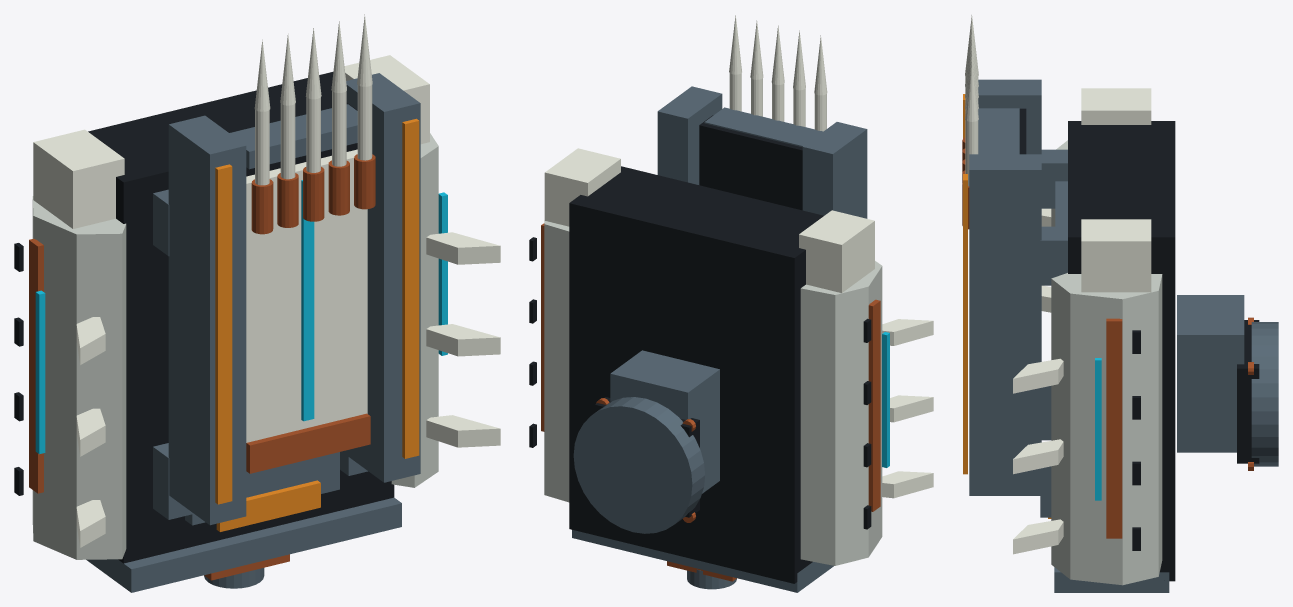
Rendered from M01-006_ceramic_needle_launcher.obj.
3 views of the same model, side by side, from view 1: azimuth 30°, elevation 25°; view 2: azimuth 150°, elevation 25°; view 3: azimuth 270°, elevation 25° (orthographic). The views are drawn at different scales.
Parts seen in each view (by area): view 1: Ceramic_Side_Shell_L, Breech_Core, Static_Guide_L, Carriage_Ceramic_Top, Static_Guide_R, Rear_Bulkhead, Nose_Side_Plate_L, Guide_Top_Accent_L, Guide_Top_Accent_R, Ceramic_Side_Shell_R, Carriage_Rear_Stop, Carriage_Glow_Spine (+32 smaller); view 2: Breech_Core, Ceramic_Side_Shell_L, Mount_Disc, Ceramic_Side_Shell_R, Extending_Carriage, Riser, Static_Guide_L, Nose_Side_Plate_L, Static_Guide_R, Nose_Side_Plate_R, Rear_Bulkhead, Copper_Side_Inlay_L (+7 smaller); view 3: Ceramic_Side_Shell_R, Static_Guide_R, Breech_Core, Riser, Nose_Side_Plate_R, Mount_Disc, Copper_Side_Inlay_R, Static_Guide_L, Nose_Side_Plate_L, Carriage_Front_Bridge, Mount_Key, Rear_Bulkhead (+12 smaller).
Part boxes in pixels (x1,y1,x2,y2): Ceramic_Side_Shell_L: (32, 196, 126, 559); Breech_Core: (88, 72, 394, 563); Static_Guide_L: (168, 115, 246, 525); Carriage_Ceramic_Top: (246, 149, 367, 442); Static_Guide_R: (343, 73, 420, 482); Rear_Bulkhead: (86, 497, 401, 592); Nose_Side_Plate_L: (33, 129, 124, 228); Guide_Top_Accent_L: (215, 164, 232, 504); Guide_Top_Accent_R: (402, 118, 419, 458); Ceramic_Side_Shell_R: (391, 133, 438, 487); Carriage_Rear_Stop: (246, 413, 370, 473); Carriage_Glow_Spine: (301, 180, 314, 421); Breech_Core: (569, 166, 823, 583); Ceramic_Side_Shell_L: (800, 261, 882, 565); Mount_Disc: (573, 397, 705, 533); Ceramic_Side_Shell_R: (544, 220, 569, 502); Extending_Carriage: (699, 115, 802, 210); Riser: (610, 350, 719, 493); Static_Guide_L: (802, 122, 867, 218); Nose_Side_Plate_L: (799, 210, 874, 292); Static_Guide_R: (657, 86, 722, 184); Nose_Side_Plate_R: (544, 148, 620, 226); Rear_Bulkhead: (572, 530, 833, 592); Copper_Side_Inlay_L: (868, 299, 880, 511); Ceramic_Side_Shell_R: (1051, 273, 1162, 585); Static_Guide_R: (969, 154, 1041, 495); Breech_Core: (1068, 121, 1175, 581); Riser: (1177, 295, 1244, 452); Nose_Side_Plate_R: (1081, 219, 1151, 292); Mount_Disc: (1251, 322, 1278, 466); Copper_Side_Inlay_R: (1106, 318, 1122, 538); Static_Guide_L: (978, 79, 1041, 154); Nose_Side_Plate_L: (1081, 88, 1151, 124); Carriage_Front_Bridge: (978, 108, 1019, 154); Mount_Key: (1237, 320, 1259, 463); Rear_Bulkhead: (1054, 567, 1169, 592).
Size of the model in its own units: 0.854 by 1.18 by 0.633.
